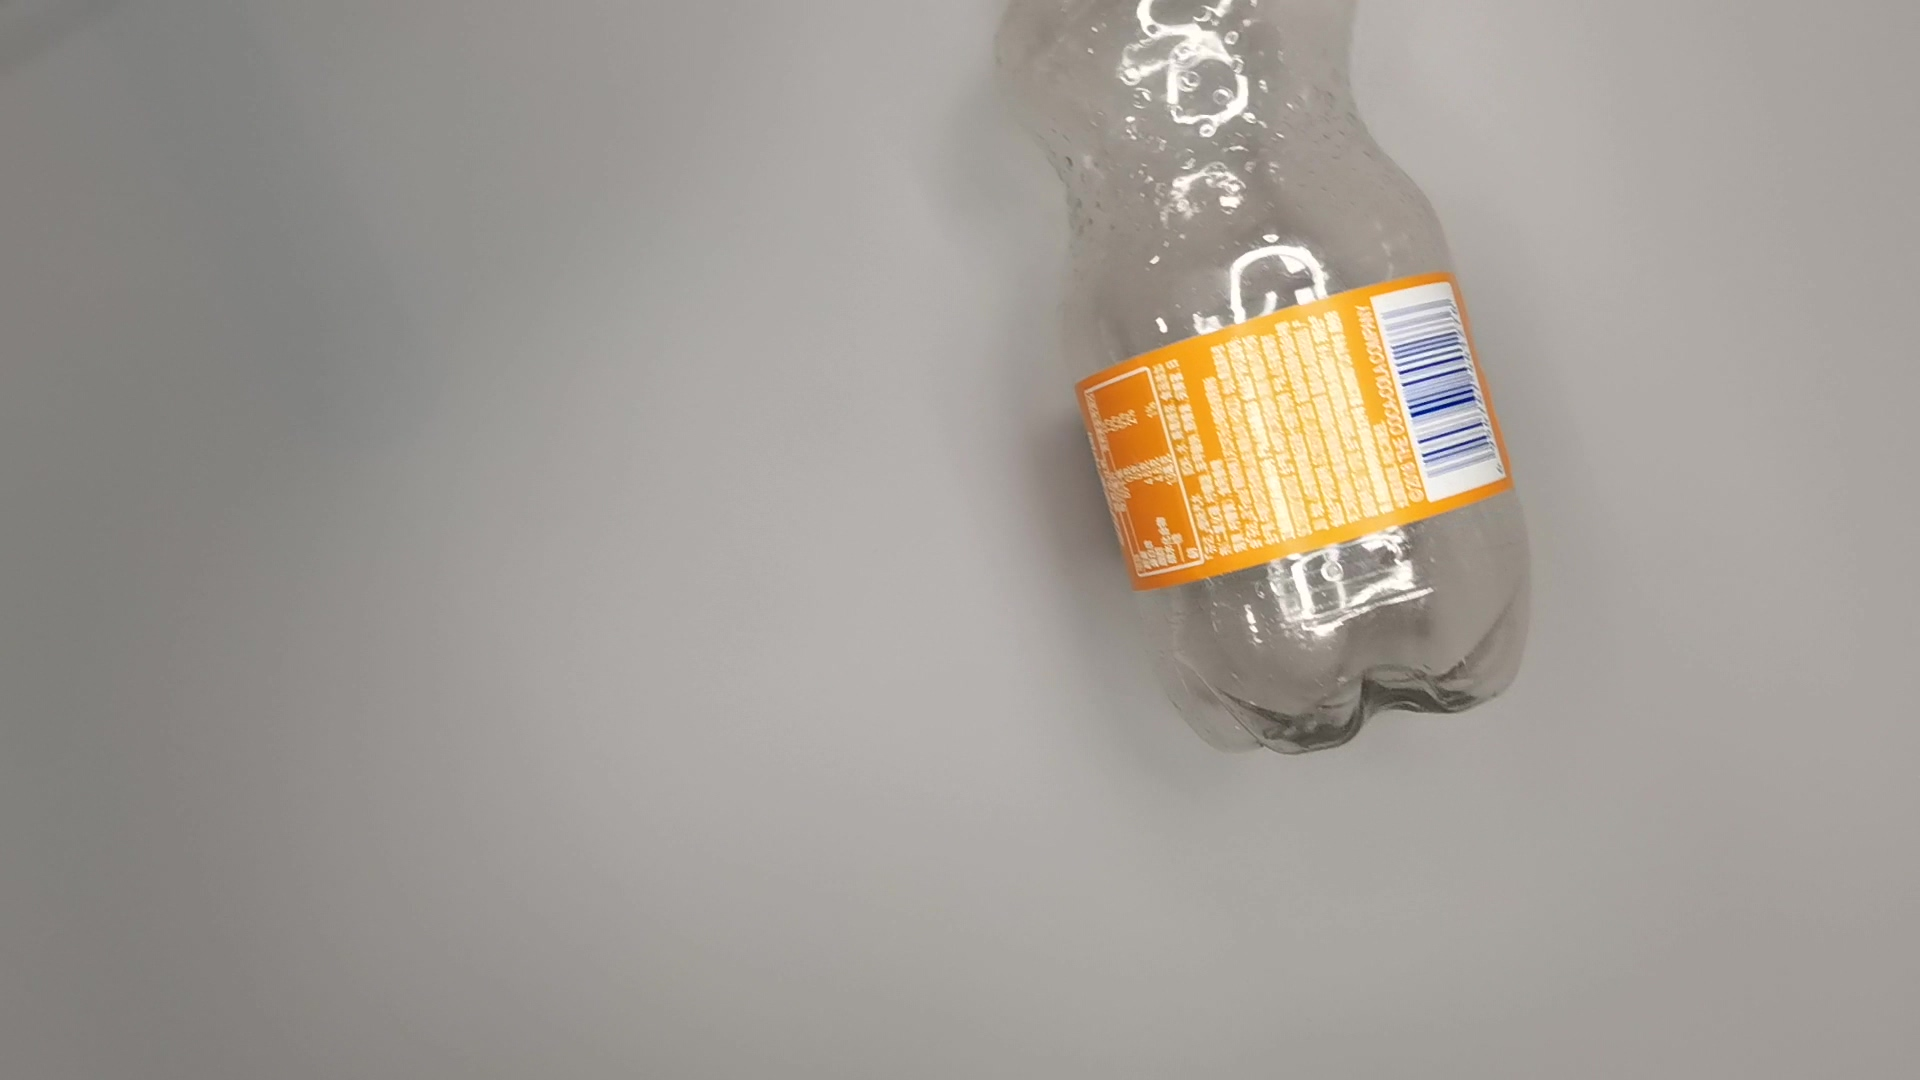bottle: (993, 1, 1545, 769)
